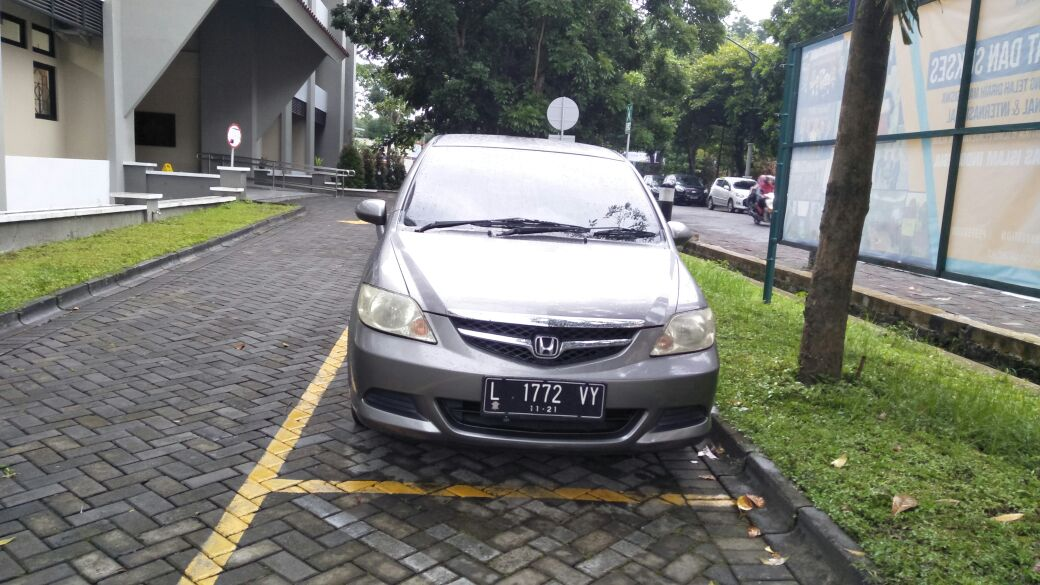plate: (484, 378, 606, 421)
